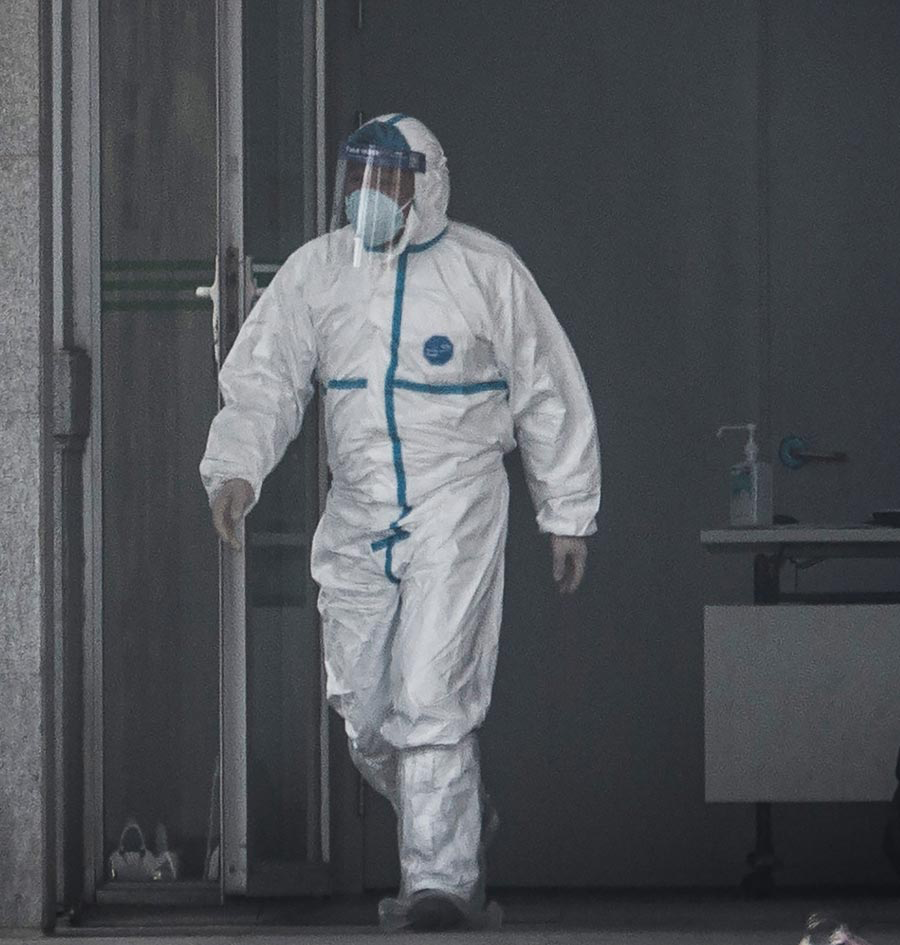Coverall: (198, 115, 598, 930)
Face_Shield: (323, 144, 423, 272)
Gloves: (211, 482, 254, 548), (549, 536, 591, 600)
with_mask: (347, 179, 402, 244)
